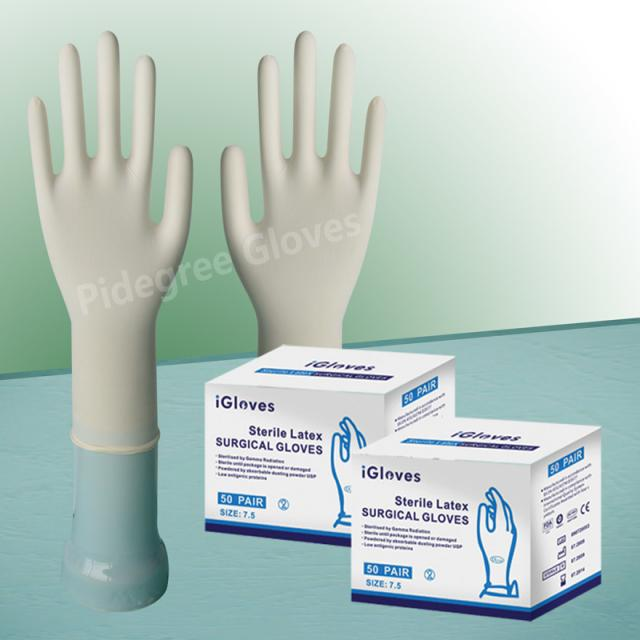Gloves: (22, 39, 201, 436), (221, 20, 381, 366)
